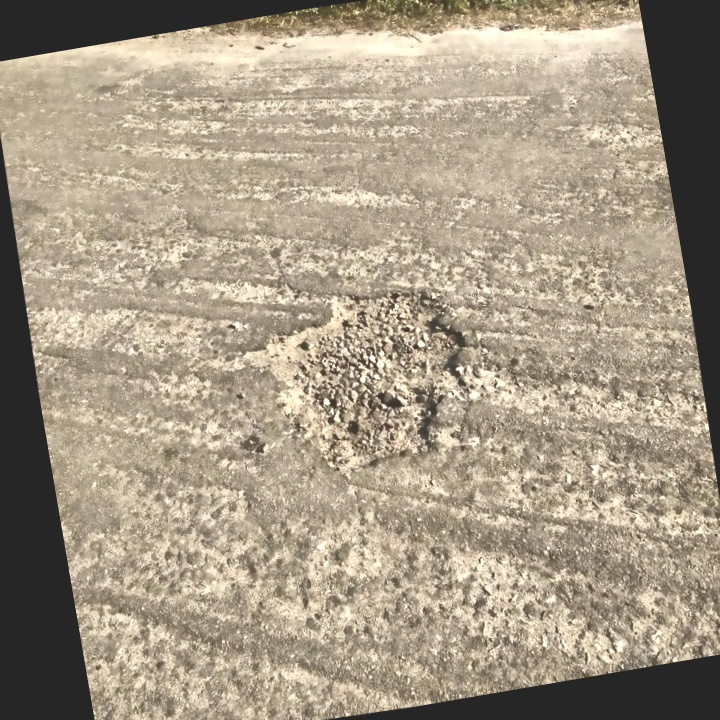pothole: (227, 270, 490, 495)
